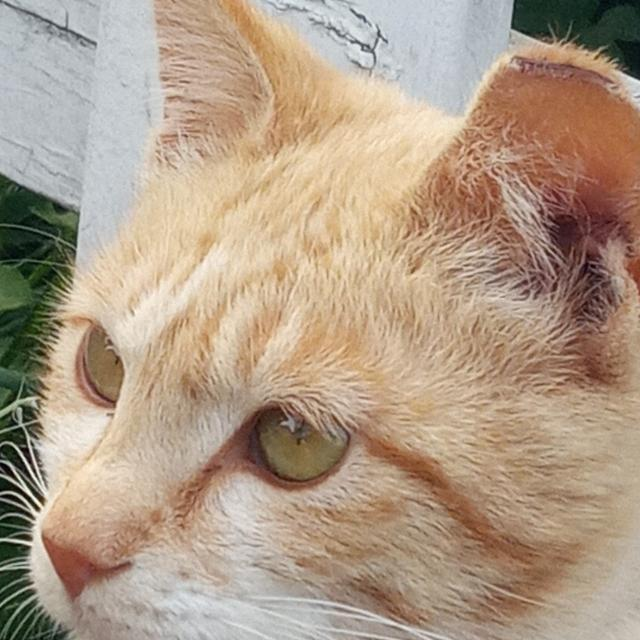animals: (17, 0, 640, 640)
